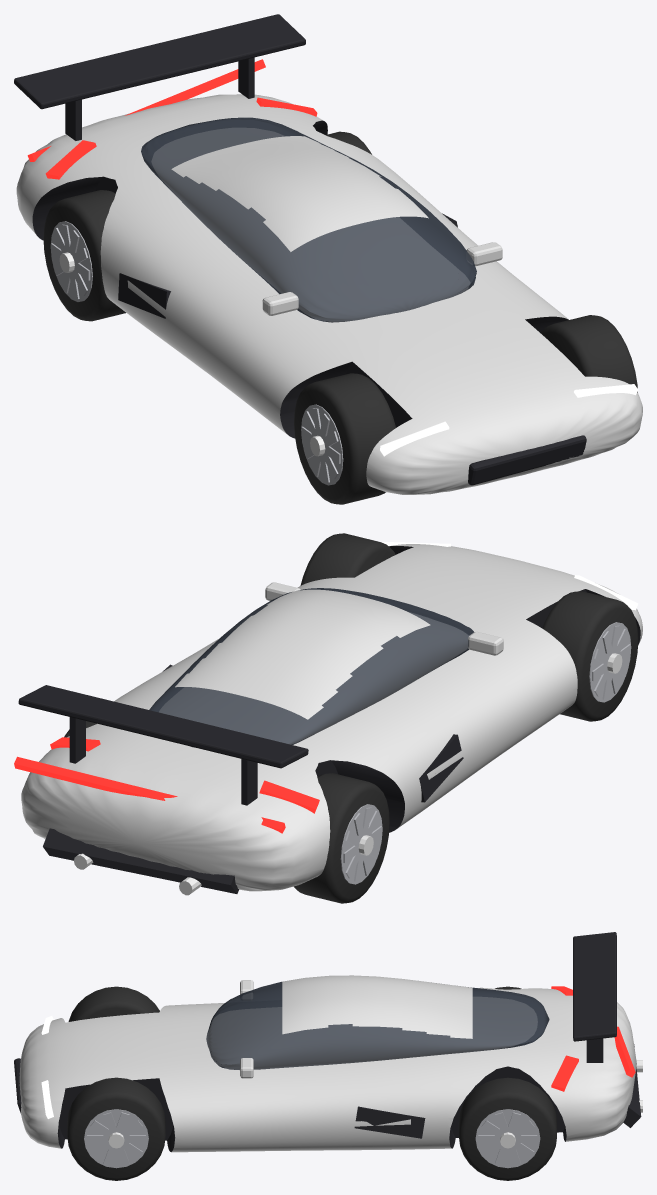
Rendered from phantom.glb.
3 views of the same model, one above another, from view 1: azimuth 30°, elevation 25°; view 2: azimuth 150°, elevation 25°; view 3: azimuth 270°, elevation 25° (orthographic). The views are drawn at different scales.
Visible parts, largest first — view 1: Car, Wheel_FL, Wheel_RL, Wheel_FR, Rim, Rim.002; view 2: Car, Wheel_FL, Wheel_RL, Wheel_FR, Rim.002, Rim; view 3: Car, Wheel_FR, Wheel_RR, Wheel_FL, Rim.003, Rim.001.
Part boxes in pixels (x1,y1,x2,y2): Car: (14,14,642,494); Wheel_FL: (294,373,395,504); Wheel_RL: (43,190,125,321); Wheel_FR: (540,315,637,392); Rim: (301,404,343,485); Rim.002: (50,221,92,301); Car: (14,542,642,895); Wheel_FL: (542,591,638,721); Wheel_RL: (294,773,389,903); Wheel_FR: (300,533,395,585); Rim.002: (340,804,382,884); Rim: (589,622,631,702); Car: (14,932,642,1152); Wheel_FR: (67,1077,165,1180); Wheel_RR: (458,1077,556,1180); Wheel_FL: (68,986,159,1021); Rim.003: (475,1109,540,1168); Rim.001: (84,1109,148,1168).
Size of the model in its own units: 2.02 by 1.18 by 4.61.
